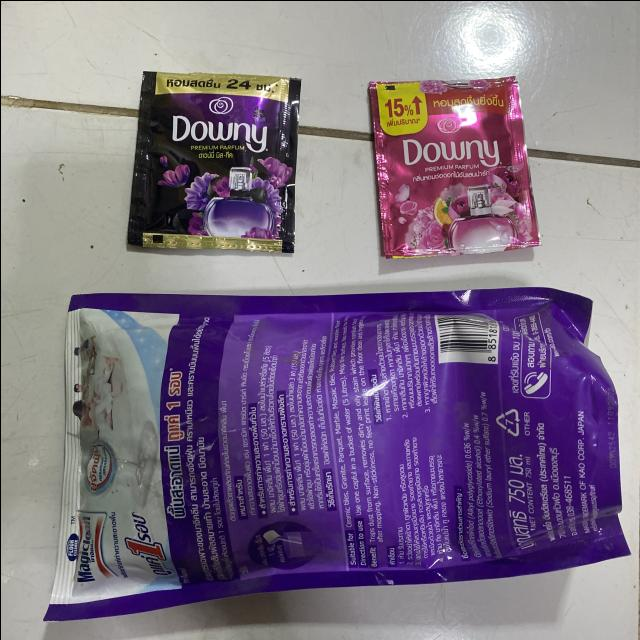plastik: (45, 286, 628, 620), (127, 72, 300, 252), (368, 75, 537, 257)
